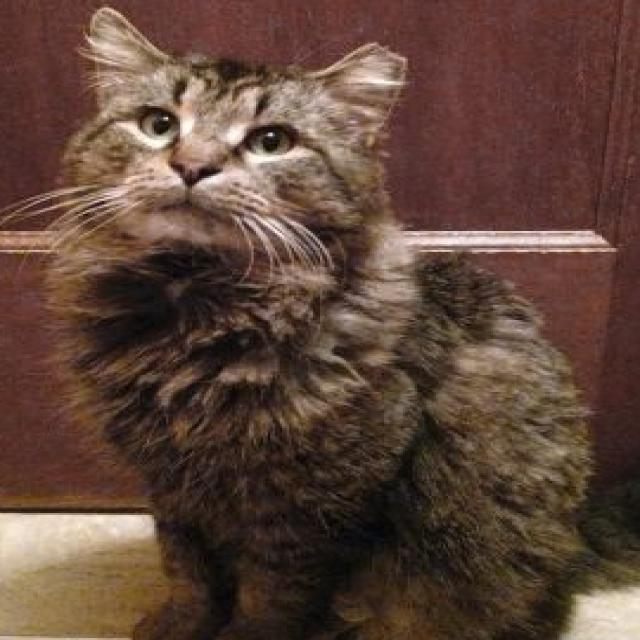Maine Coon: (35, 5, 597, 640)
